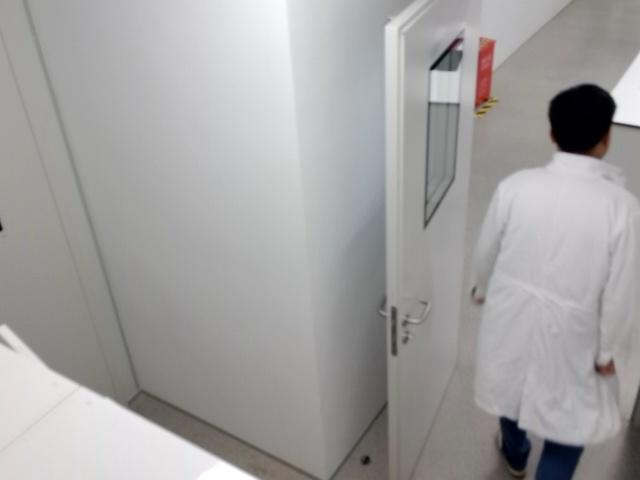Lab_coat: (471, 84, 639, 479)
